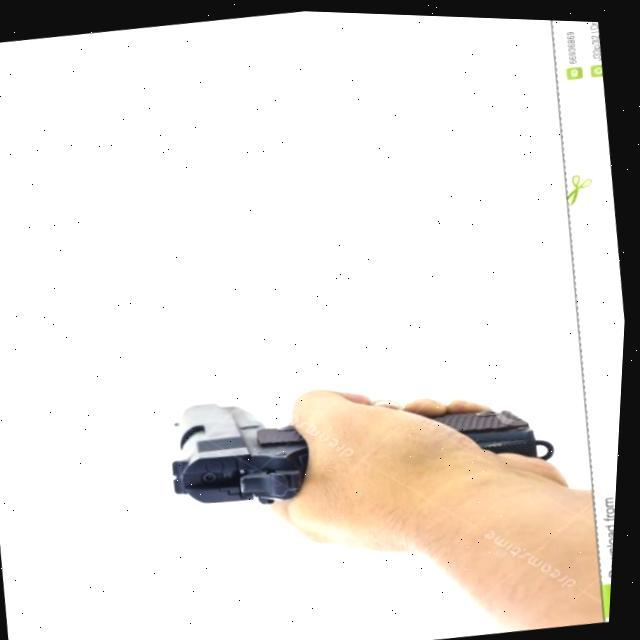gun: (160, 352, 560, 520)
